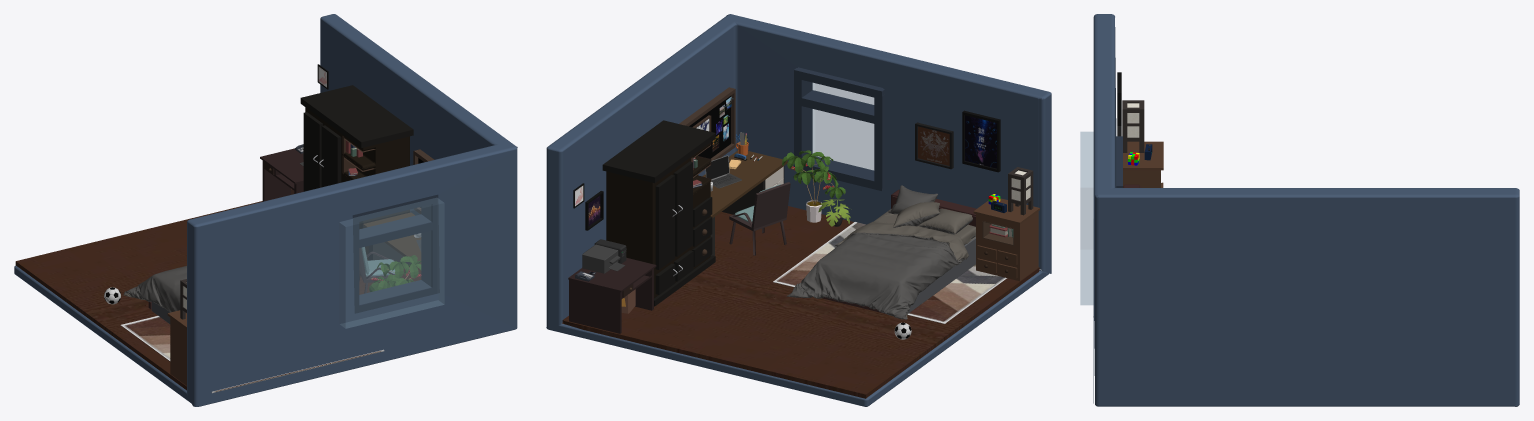
The model's file is cleaned_portfolio_model_3.glb.
3 renders of one model, left to right at view 1: azimuth 30°, elevation 25°; view 2: azimuth 150°, elevation 25°; view 3: azimuth 270°, elevation 25°, orthographic. The views are drawn at different scales.
Parts seen in each view (by area): view 1: room_wall_1, window_glass, room_floor, room_wall_2, wardrobe_body, window_frame, room_sub_flloor, table_body, carpet, bedsheets_2, wardrobe_door_1, desk_body (+3 smaller); view 2: room_wall_1, room_floor, room_wall_2, bedsheets_2, wardrobe_body, window_frame, room_sub_flloor, table_body, carpet, window_glass, bedsheets_1, desk_body (+18 smaller); view 3: room_wall_2, room_wall_1, window_glass, side_table_top, lamp_frame, side_table_body.
Boxes of the visible parts, x1,y1,x2,y2 form: room_wall_1: (187, 144, 516, 406); window_glass: (339, 198, 444, 328); room_floor: (15, 201, 421, 390); room_wall_2: (320, 14, 517, 327); wardrobe_body: (300, 85, 413, 260); window_frame: (352, 194, 439, 313); room_sub_flloor: (14, 147, 517, 406); table_body: (260, 148, 303, 201); carpet: (120, 316, 384, 393); bedsheets_2: (123, 266, 186, 312); wardrobe_door_1: (303, 112, 322, 191); desk_body: (363, 212, 421, 264); room_wall_1: (729, 14, 1051, 273); room_floor: (562, 206, 1039, 398); room_wall_2: (546, 14, 734, 328); bedsheets_2: (786, 185, 972, 319); wardrobe_body: (602, 120, 715, 306); window_frame: (794, 67, 884, 190); room_sub_flloor: (546, 15, 1048, 406); table_body: (568, 257, 656, 333); carpet: (773, 222, 1007, 323); window_glass: (812, 83, 873, 170); bedsheets_1: (790, 185, 975, 317); desk_body: (702, 150, 787, 255); room_wall_2: (1095, 188, 1519, 406); room_wall_1: (1093, 14, 1116, 403); window_glass: (1080, 132, 1093, 304); side_table_top: (1123, 141, 1163, 170); lamp_frame: (1122, 100, 1144, 152); side_table_body: (1123, 170, 1160, 187).
Bounding box in the file's own units: 12.7 × 6.84 × 12.86.
Materials: 93 (23 with a texture image).
